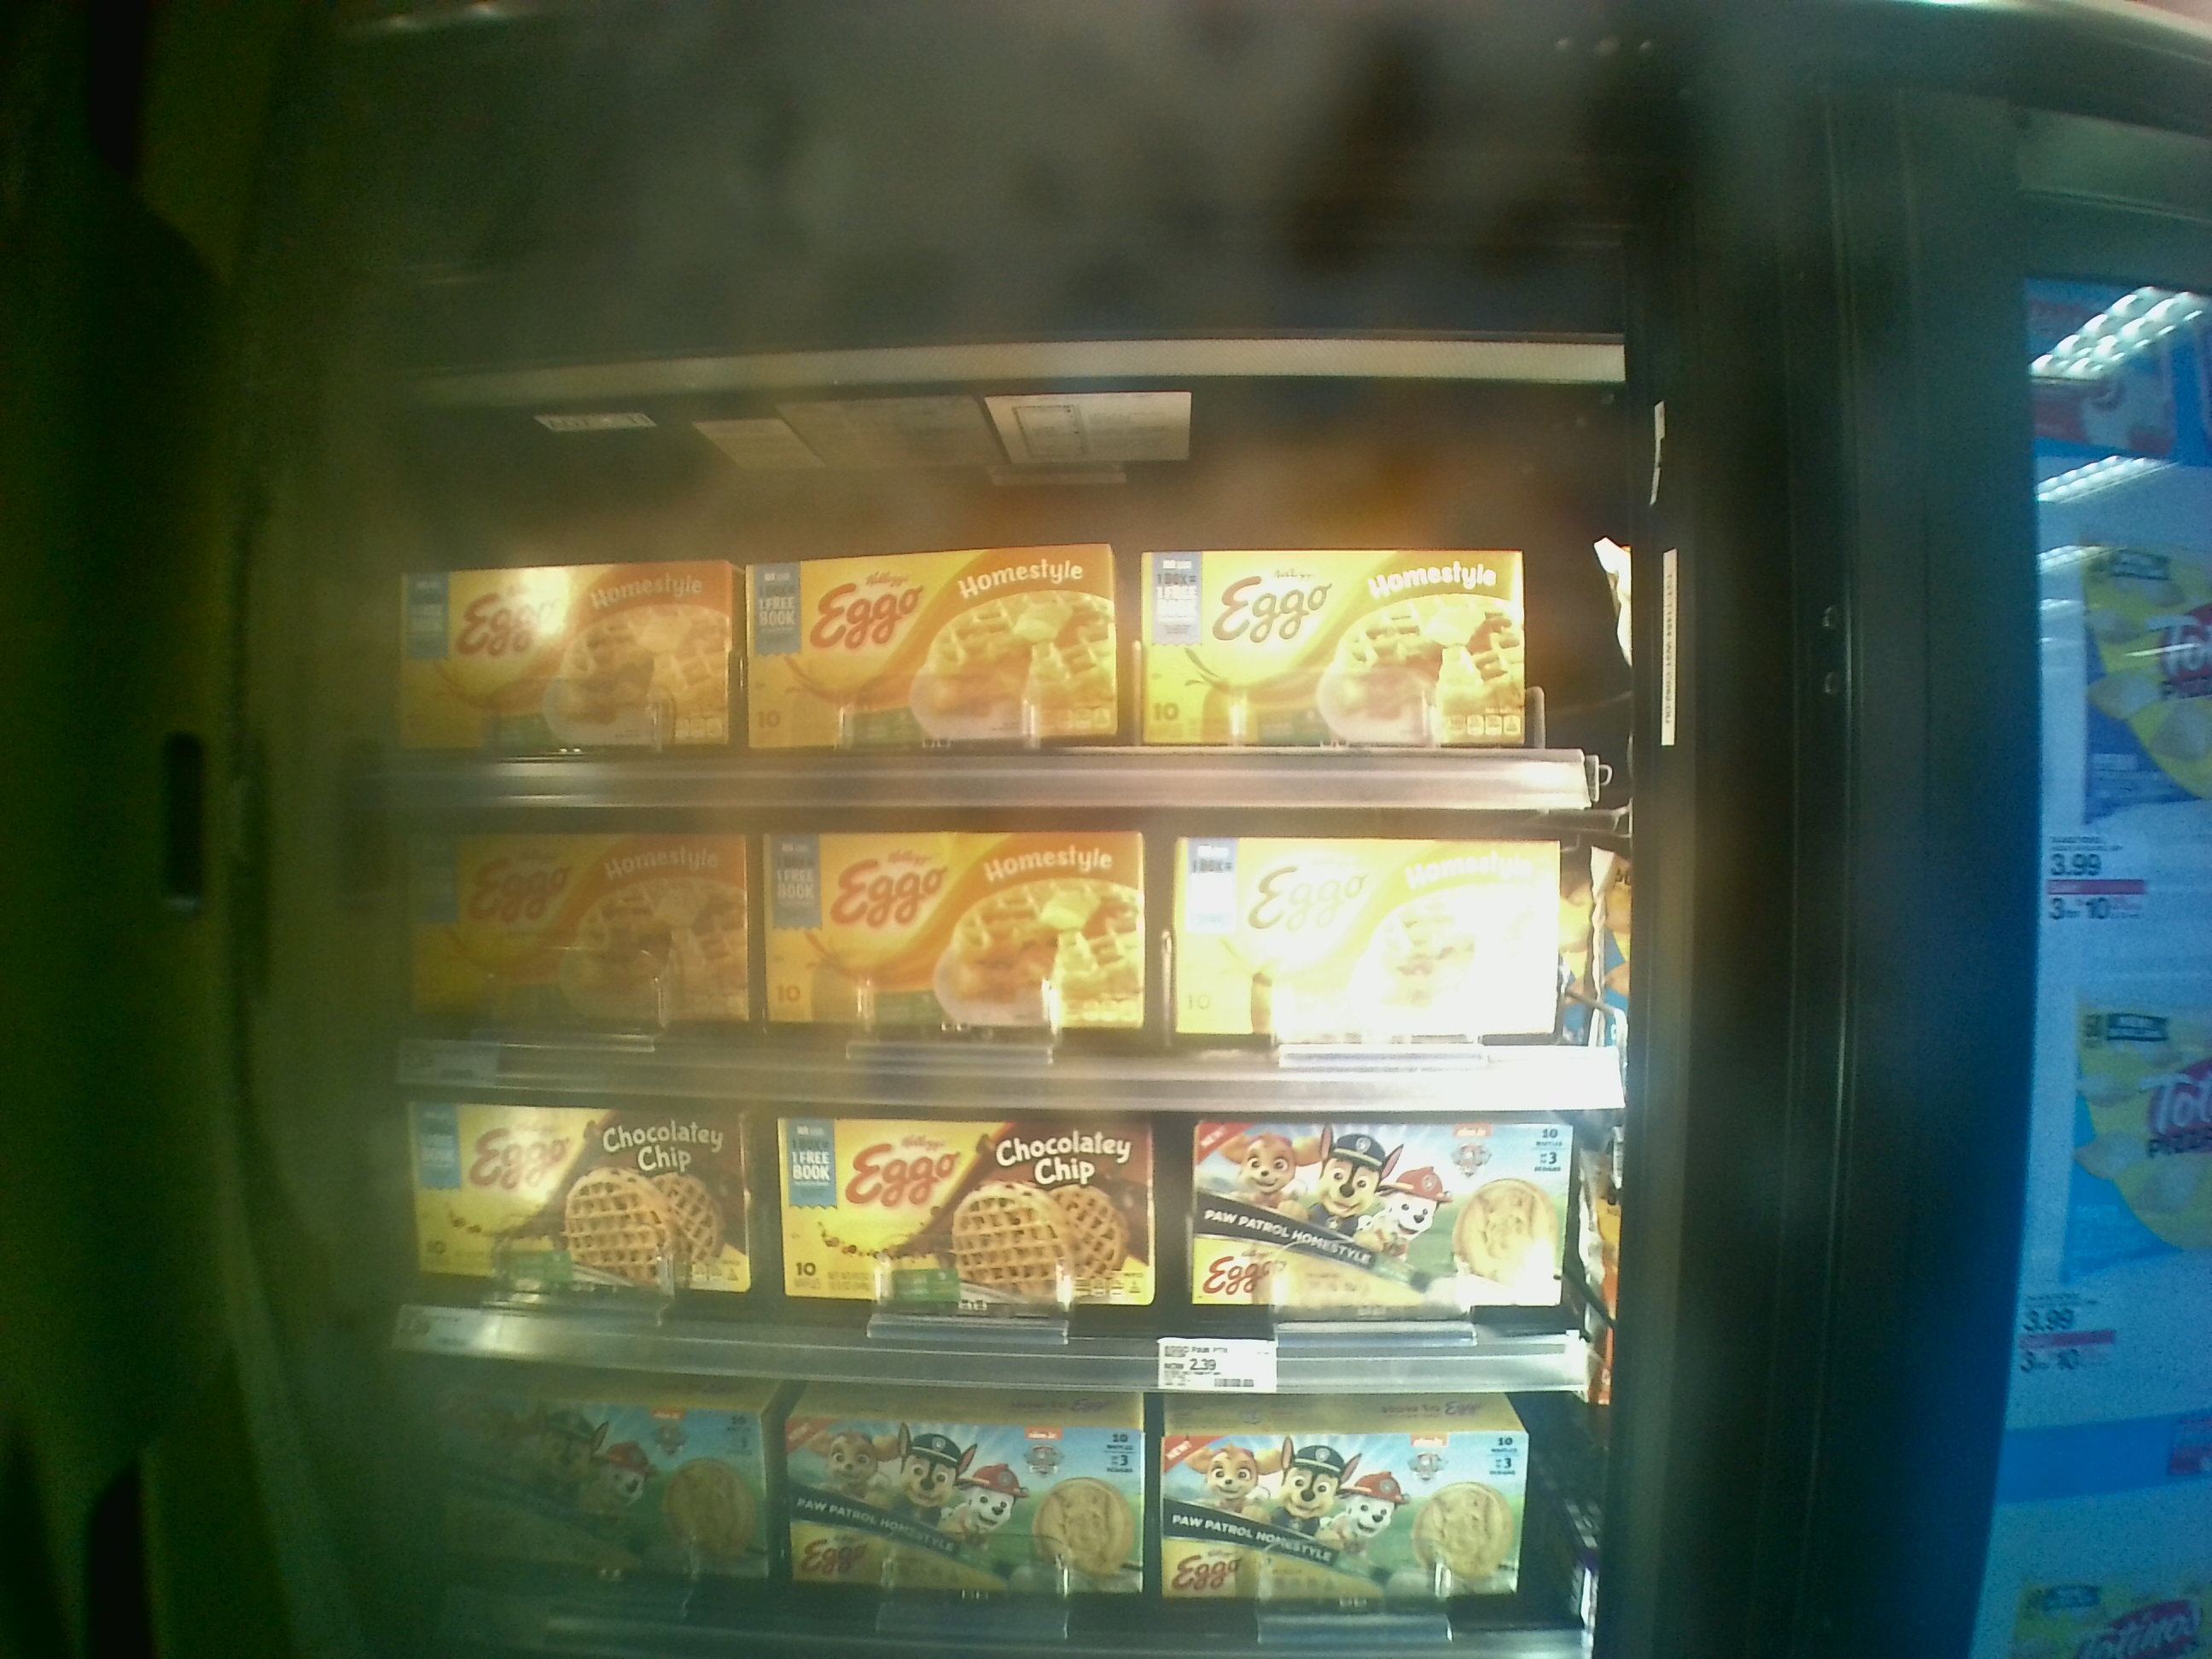frozen-food-shelf: (399, 350, 1623, 814), (387, 1080, 1587, 1389)
